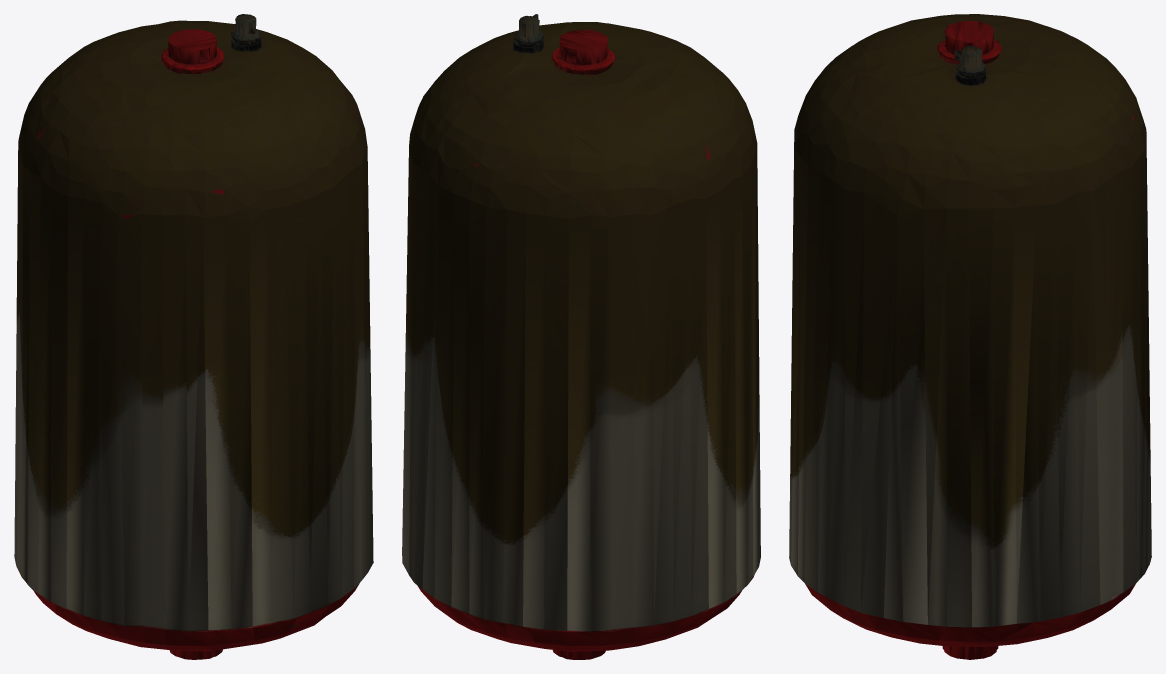
Rendered from engine_v8.glb.
3 renders of one model, left to right at view 1: azimuth 30°, elevation 25°; view 2: azimuth 150°, elevation 25°; view 3: azimuth 270°, elevation 25°, orthographic.
Visible parts, largest first — view 1: tripo_node_0829ebd5; view 2: tripo_node_0829ebd5; view 3: tripo_node_0829ebd5.
Boxes of the visible parts, bbox=[...] form: tripo_node_0829ebd5: bbox=[14, 14, 373, 659]; tripo_node_0829ebd5: bbox=[402, 14, 760, 659]; tripo_node_0829ebd5: bbox=[789, 14, 1151, 659].
Bounding box in the file's own units: 0.5256 × 0.9981 × 0.527.
Materials: 1 (1 with a texture image).
